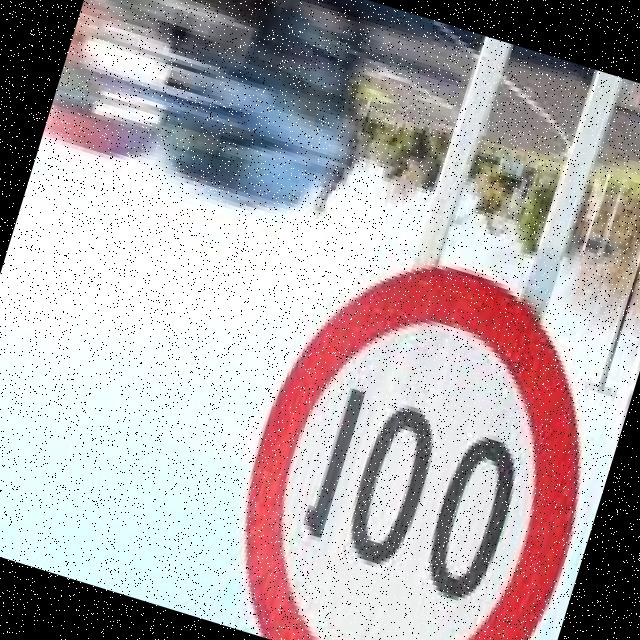speed_limit_100: (198, 227, 633, 640)
